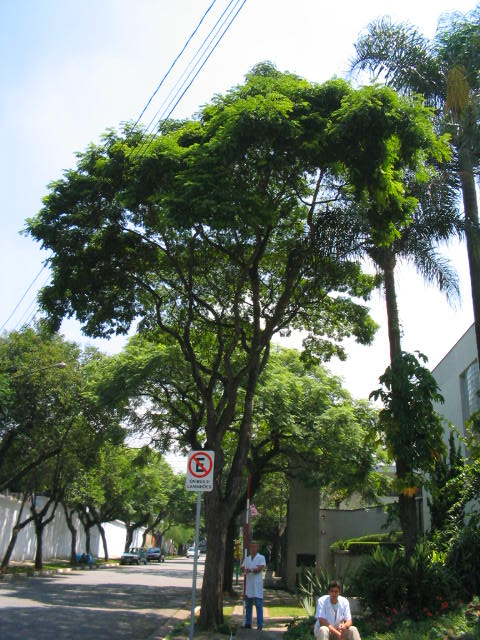crown: (19, 57, 451, 379)
stem: (191, 501, 235, 628)
stick: (236, 473, 254, 626)
tree: (16, 56, 454, 630)
